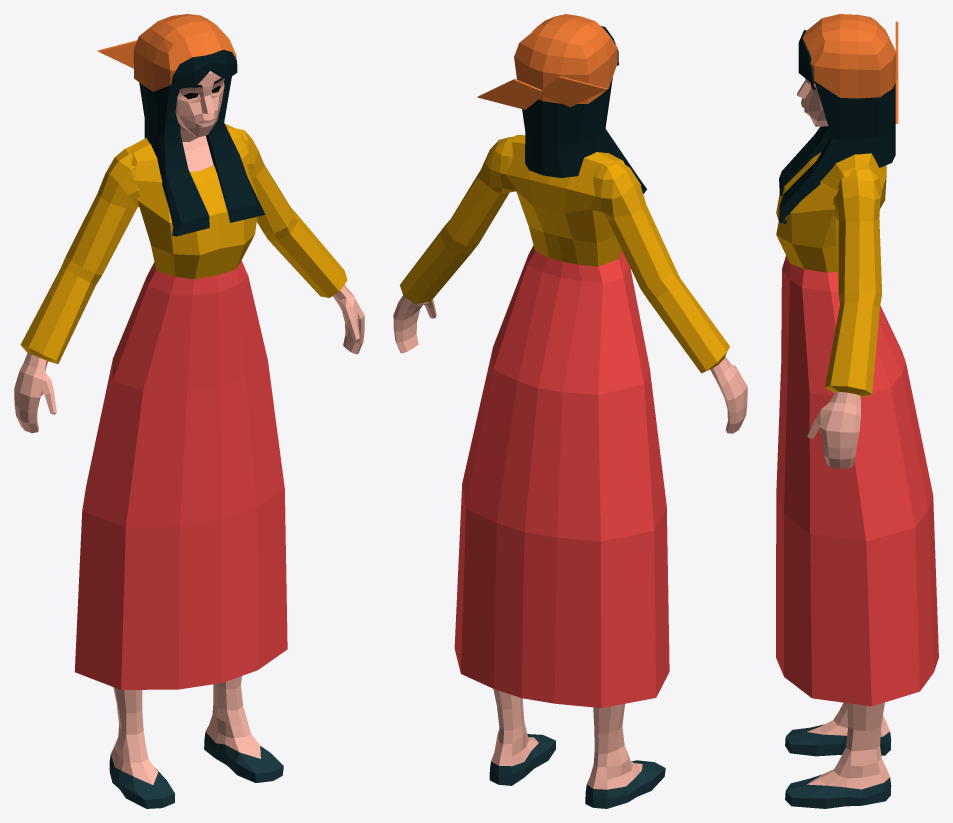
Rendered from Female_04.FBX.
3 renders of one model, left to right at view 1: azimuth 30°, elevation 25°; view 2: azimuth 150°, elevation 25°; view 3: azimuth 270°, elevation 25°, orthographic.
Visible parts, largest first — view 1: Female_04; view 2: Female_04; view 3: Female_04.
Part boxes in pixels (left/top/right/bottom): Female_04: left=14, top=14, right=364, bottom=808; Female_04: left=393, top=14, right=747, bottom=808; Female_04: left=776, top=14, right=938, bottom=808.
Bounding box in the file's own units: 0.8204 × 1.73 × 0.3384.
Materials: 1 (1 with a texture image).
